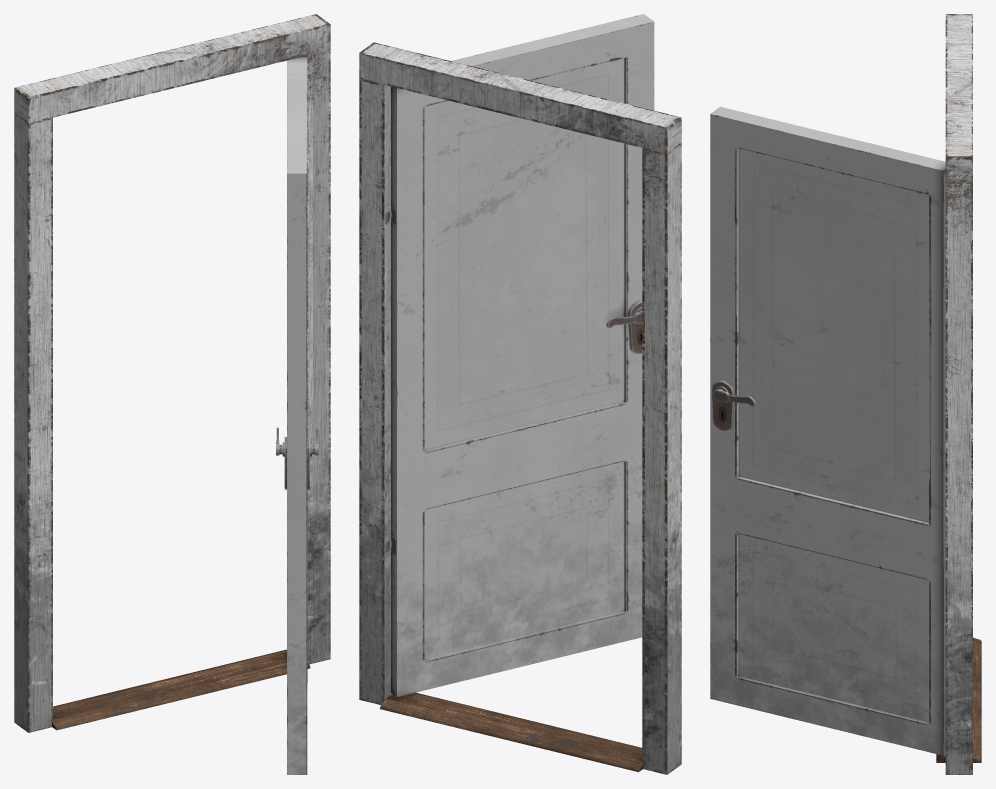
File: door-7.glb
The picture shows the model from 3 angles, left to right: view 1: azimuth 30°, elevation 25°; view 2: azimuth 150°, elevation 25°; view 3: azimuth 270°, elevation 25°; orthographic projection. The views are drawn at different scales.
Parts seen in each view (by area): view 1: Door__0; view 2: Door__0; view 3: Door__0.
Boxes of the visible parts, x1,y1,x2,y2 form: Door__0: [14, 14, 330, 774]; Door__0: [359, 14, 681, 774]; Door__0: [710, 14, 981, 774].
Size of the model in its own units: 132 by 265 by 106.
1 material, 1 textured.
